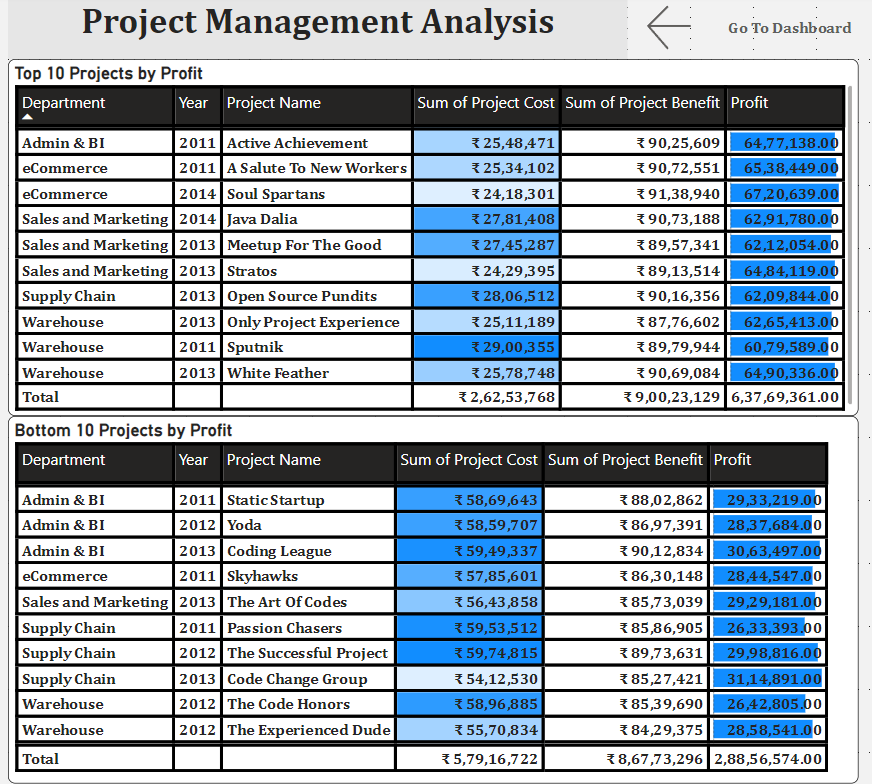

What the dashboard file says about the page in this screenshot:
{"tool":"powerbi","page":{"name":"Table View","canvas":[2000,1200],"ordinal":1},"visuals":[{"type":"tableEx","title":"Top 10 Projects by Profit","fields":{"Values":["Departments.Department","Project.Year","Project.Project Name","Sum(Project.Project Cost)","Sum(Project.Project Benefit)","Project.Profit"]},"box":[16,96,1296,544],"z":0},{"type":"textbox","box":[16,0,944,96],"z":2000},{"type":"actionButton","box":[976,0,336,96],"z":3000},{"type":"tableEx","title":"Bottom 10 Projects by Profit","fields":{"Values":["Departments.Department","Project.Year","Project.Project Name","Sum(Project.Project Cost)","Sum(Project.Project Benefit)","Project.Profit"]},"box":[16,640,1296,560],"z":4000}]}

Visuals, with their boxes on the page's 2000x1200 design canvas (x1, y1, x2, y2). These are canvas units, not pixel positions in the 872x784 screenshot, which may show the page scaled, cropped or inside an application window:
"Top 10 Projects by Profit" tableEx: bbox=[16, 96, 1312, 640]
textbox: bbox=[16, 0, 960, 96]
actionButton: bbox=[976, 0, 1312, 96]
"Bottom 10 Projects by Profit" tableEx: bbox=[16, 640, 1312, 1200]
